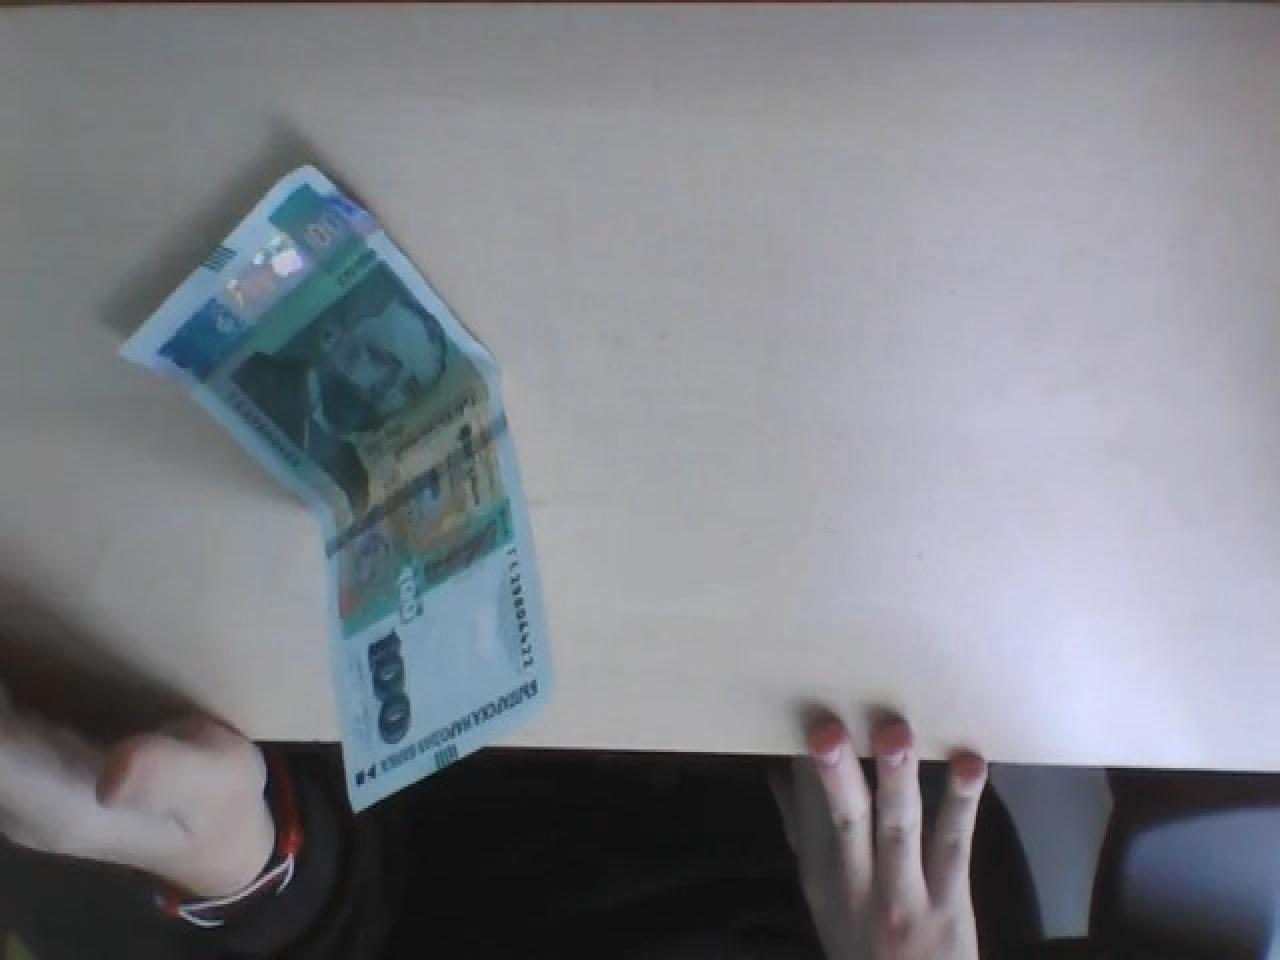100leva: (118, 159, 554, 813)
